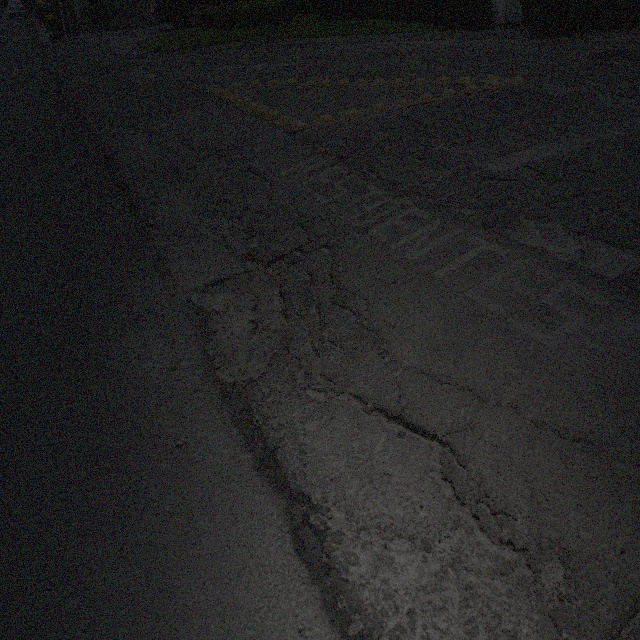pothole: (190, 249, 295, 394), (520, 208, 634, 288), (266, 249, 289, 278)
